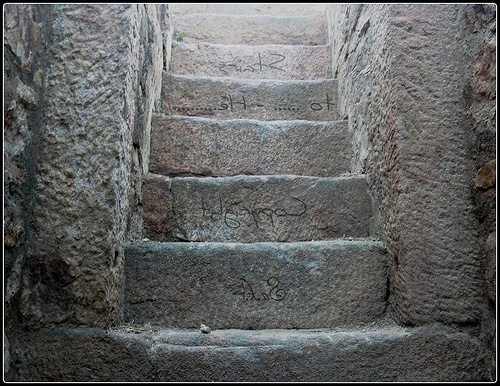stairs_up: (99, 29, 405, 327)
